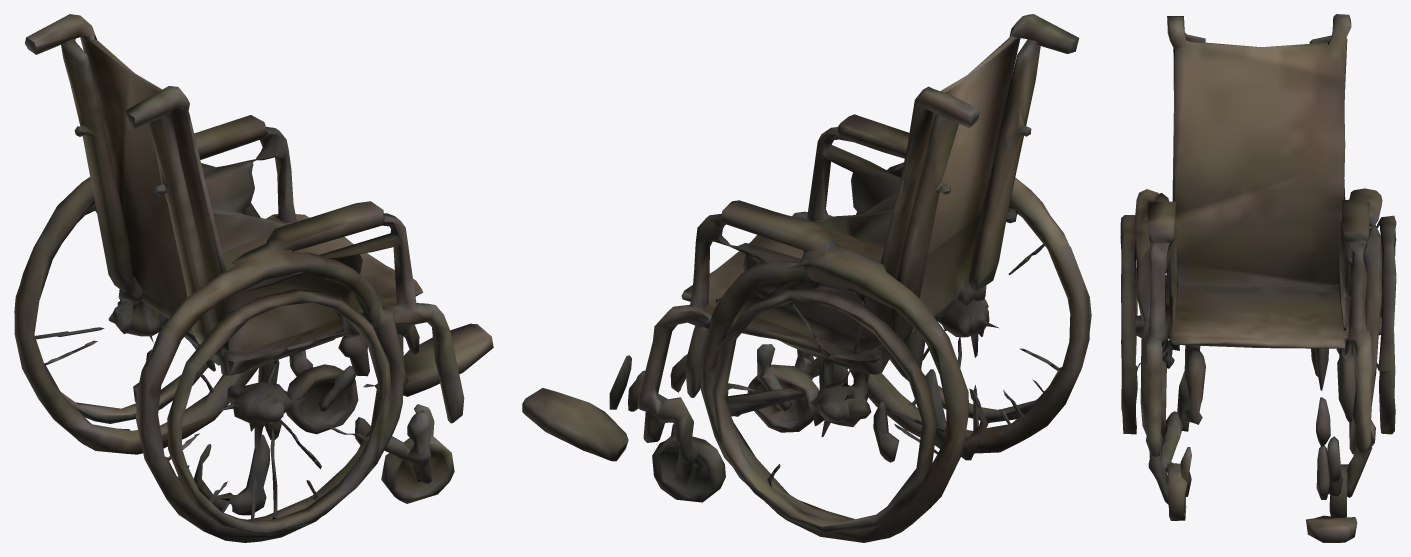
File: chipped-wood-wheelchair-v001.glb
3 renders of one model, left to right at view 1: azimuth 30°, elevation 25°; view 2: azimuth 150°, elevation 25°; view 3: azimuth 270°, elevation 25°, orthographic. The views are drawn at different scales.
Parts seen in each view (by area): view 1: chipped-wood-wheelchair; view 2: chipped-wood-wheelchair; view 3: chipped-wood-wheelchair.
Boxes of the visible parts, box(x1,y1,x2,y2) form: chipped-wood-wheelchair: box(14, 14, 493, 542); chipped-wood-wheelchair: box(522, 14, 1091, 542); chipped-wood-wheelchair: box(1120, 14, 1396, 542).
Size of the model in its own units: 0.9177 by 0.9146 by 0.5777.
Materials: 1 (1 with a texture image).
